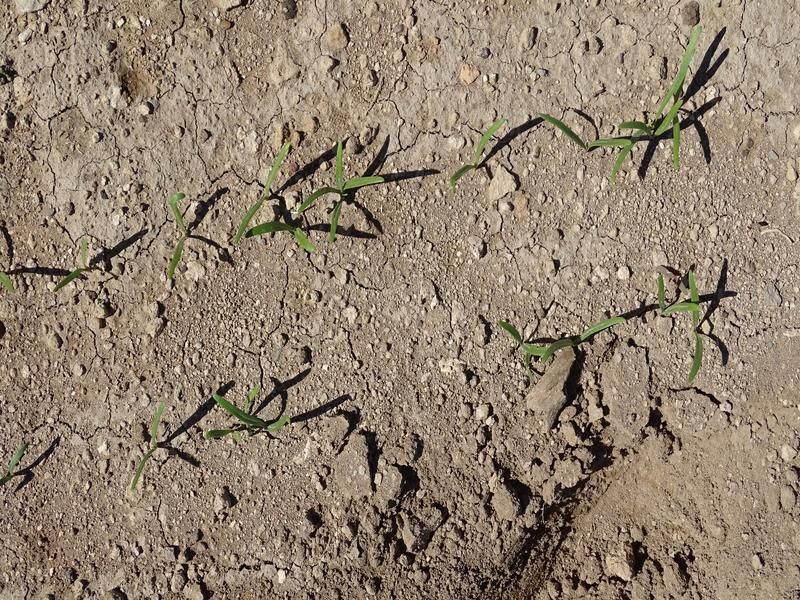Espinaca: (609, 22, 709, 173), (654, 273, 726, 379), (226, 142, 295, 244), (497, 312, 632, 361), (304, 146, 376, 234), (197, 389, 293, 449), (533, 107, 630, 159), (121, 401, 174, 496), (447, 115, 511, 185), (162, 185, 192, 285)
